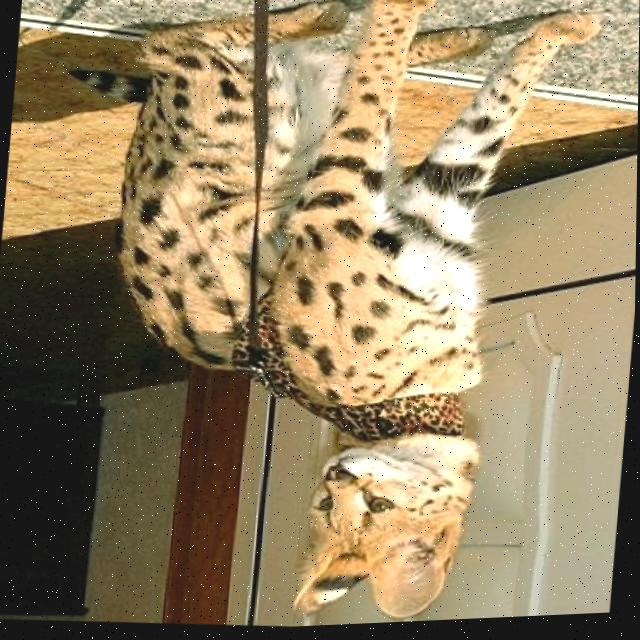Savannah: (20, 0, 608, 639)
